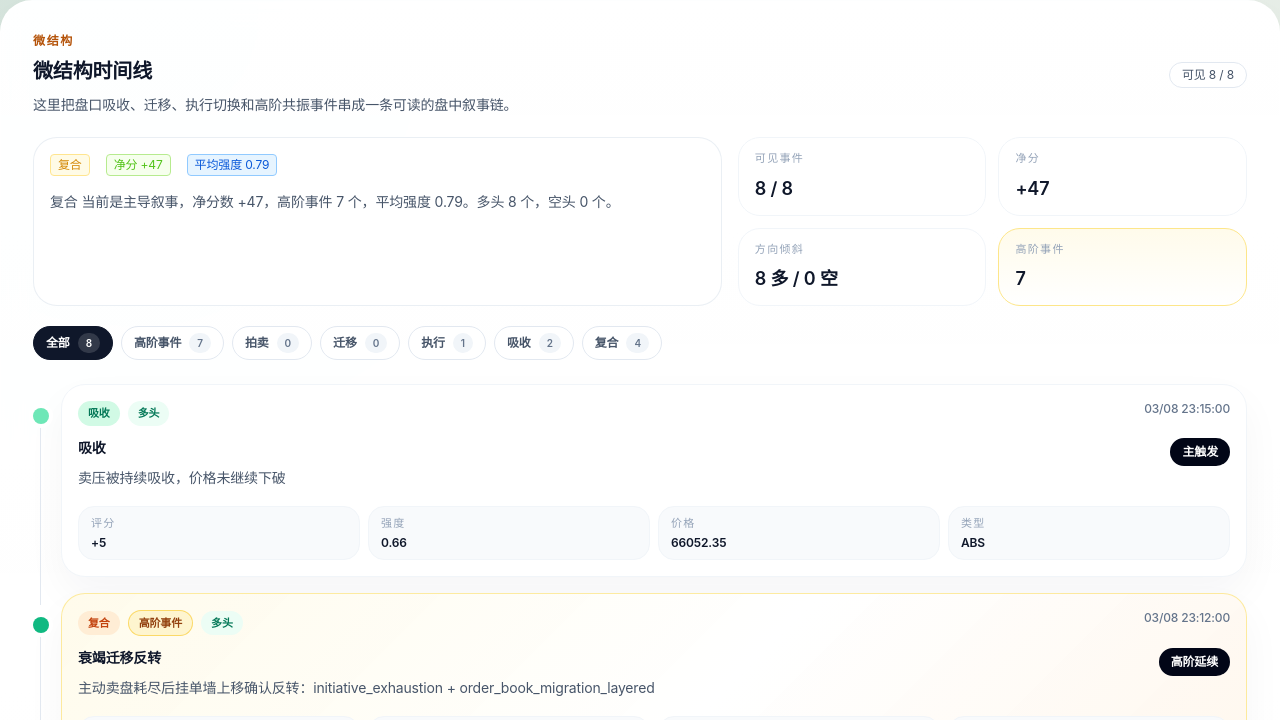
Test: MicrostructureTimeline › filters timeline events by family
Click the button "复合 4": (622, 343) [582,326,662,360]
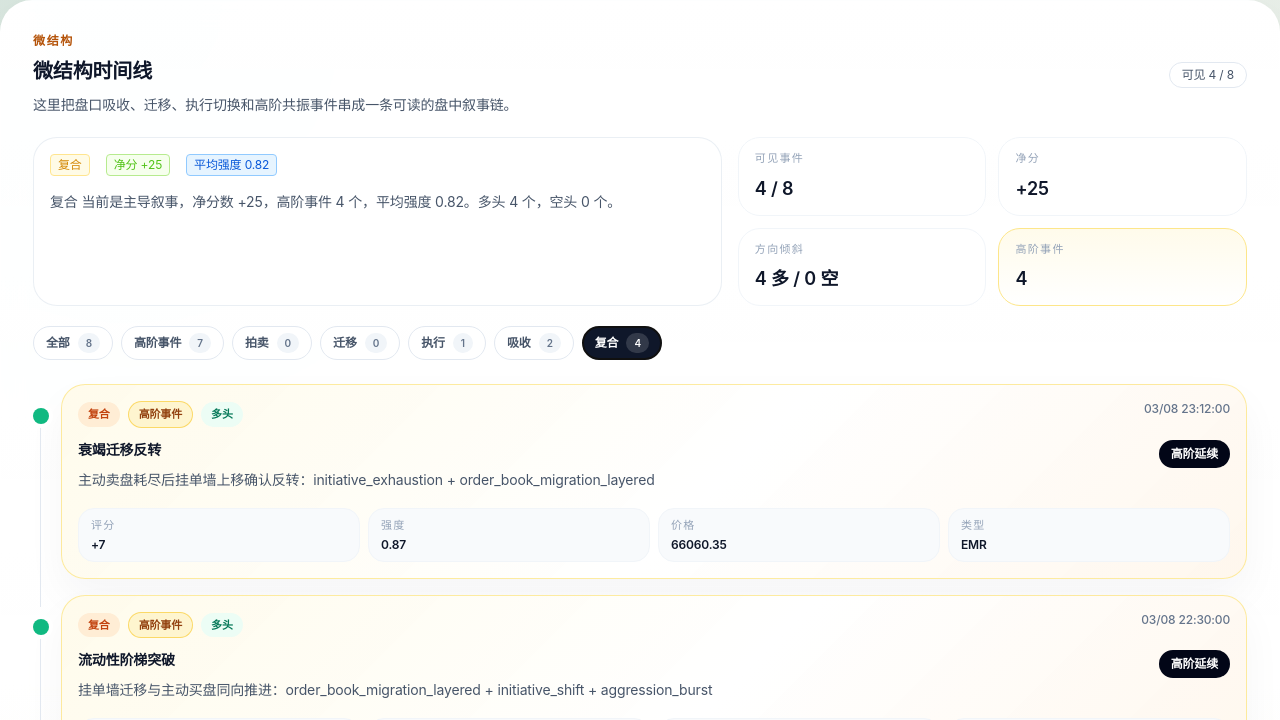
Expected: the text "挂单墙迁移与主动买盘同向推进" is shown, [78,681,712,698]
Expected: the text "卖压被持续吸收" is gone
Expected: the text "可见 4 / 8" is shown, [1169,62,1247,88]
